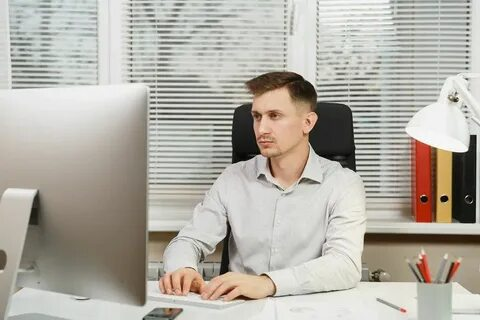awake: (158, 71, 368, 302)
